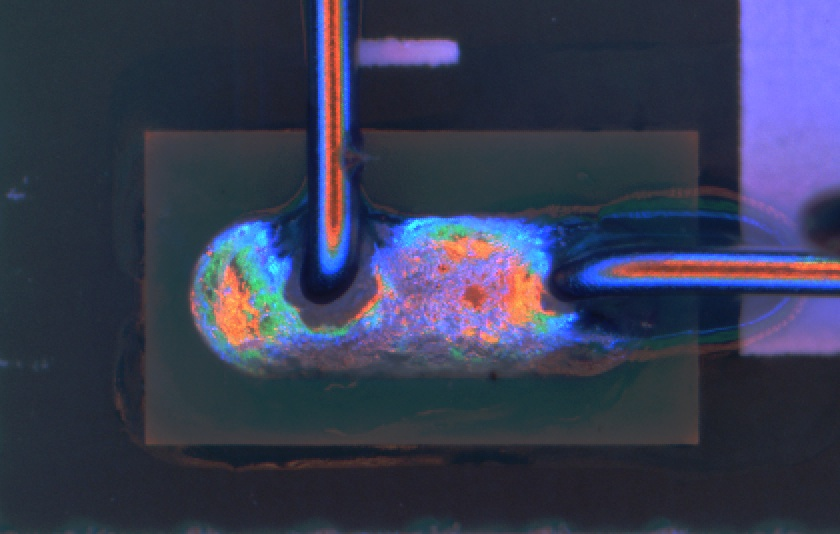spring: (549, 234, 840, 314), (300, 1, 365, 309)
spring_pin: (192, 217, 698, 372)
